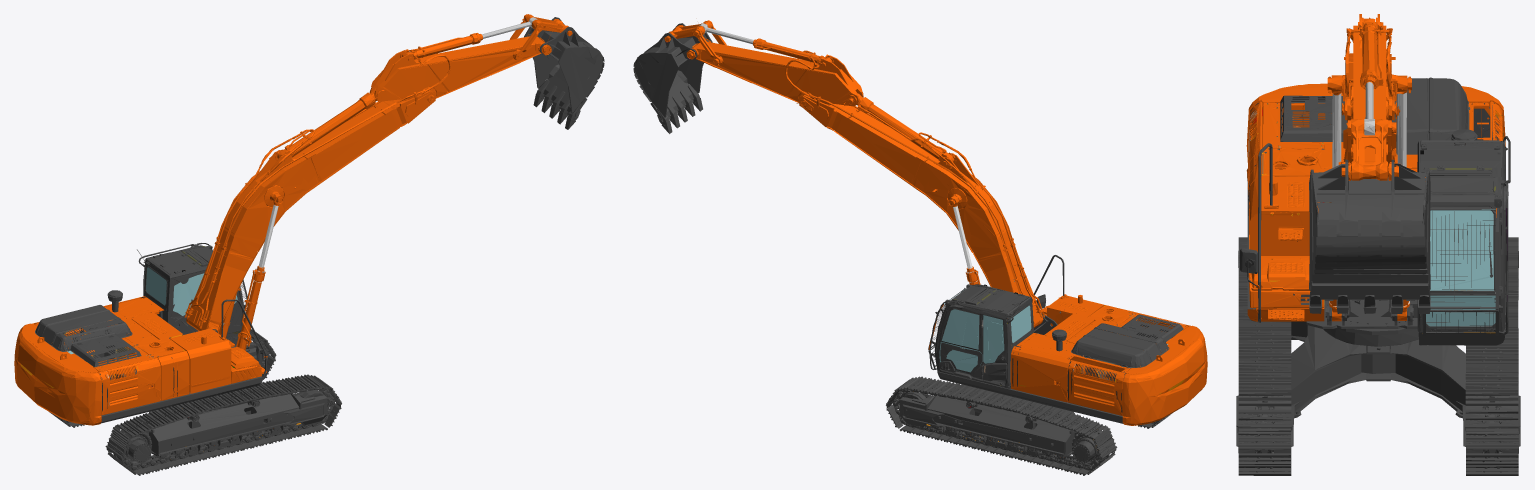
File: TruceDraco.glb
The picture shows the model from 3 angles, left to right: view 1: azimuth 30°, elevation 25°; view 2: azimuth 150°, elevation 25°; view 3: azimuth 270°, elevation 25°; orthographic projection. The views are drawn at different scales.
Parts seen in each view (by area): view 1: Mesh_0_mat_7_0 (×3), Mesh_0_mat_0_0 (×13), Mesh_0_mat_22_0; view 2: Mesh_0_mat_7_0 (×3), Mesh_0_mat_0_0 (×11), Mesh_0_mat_22_0; view 3: Mesh_0_mat_0_0 (×13), Mesh_0_mat_7_0 (×3), Mesh_0_mat_22_0, Mesh_0_mat_28_0, Mesh_0_mat_49_0.
Boxes of the visible parts, box(x1,y1,x2,y2) form: Mesh_0_mat_7_0 (×3): box(14, 14, 572, 425); Mesh_0_mat_0_0 (×13): box(35, 17, 604, 475); Mesh_0_mat_22_0: box(67, 267, 237, 354); Mesh_0_mat_7_0 (×3): box(664, 20, 1207, 432); Mesh_0_mat_0_0 (×11): box(633, 23, 1185, 471); Mesh_0_mat_22_0: box(939, 279, 1167, 372); Mesh_0_mat_0_0 (×13): box(1236, 77, 1520, 475); Mesh_0_mat_7_0 (×3): box(1246, 14, 1505, 321); Mesh_0_mat_22_0: box(1426, 209, 1495, 326); Mesh_0_mat_28_0: box(1329, 92, 1495, 306); Mesh_0_mat_49_0: box(1364, 82, 1374, 135).
Size of the model in its own units: 1262 by 710 by 324.
